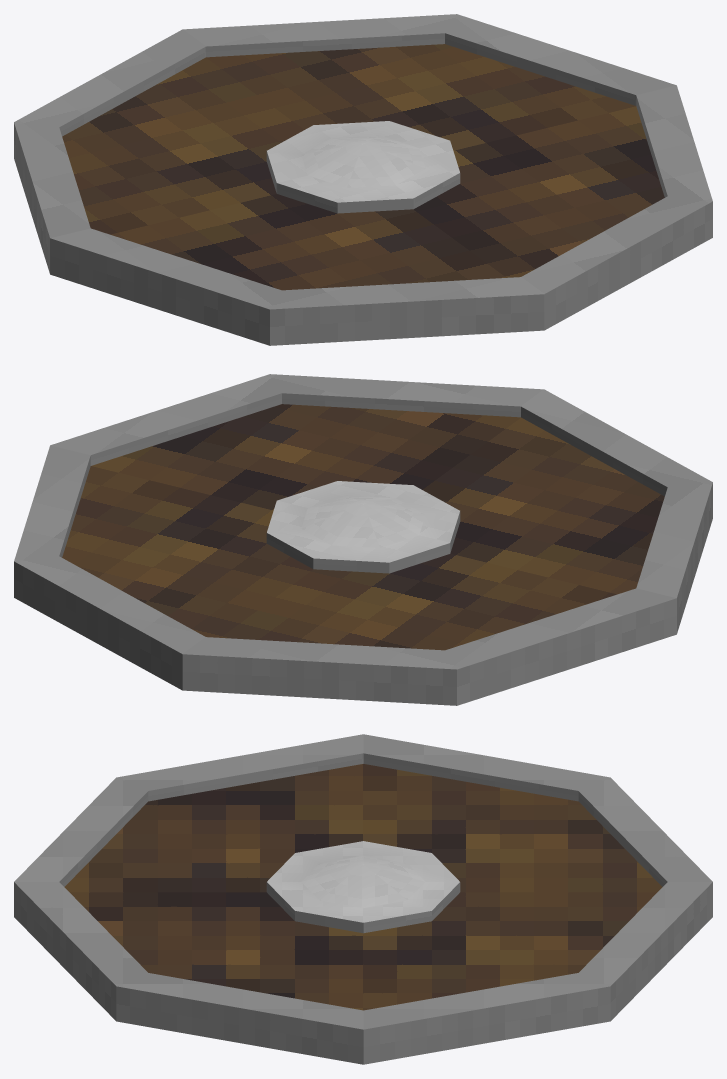
Rendered from viking_shield.fbx.
The picture shows the model from 3 angles, top to bottom: view 1: azimuth 30°, elevation 25°; view 2: azimuth 150°, elevation 25°; view 3: azimuth 270°, elevation 25°; orthographic projection. The views are drawn at different scales.
Visible parts, largest first — view 1: pCylinder1; view 2: pCylinder1; view 3: pCylinder1.
Boxes of the visible parts, box(x1,y1,x2,y2) form: pCylinder1: box(14, 14, 712, 345); pCylinder1: box(14, 374, 712, 705); pCylinder1: box(14, 734, 712, 1064).
Bounding box in the file's own units: 7.8 × 0.6546 × 7.8.
